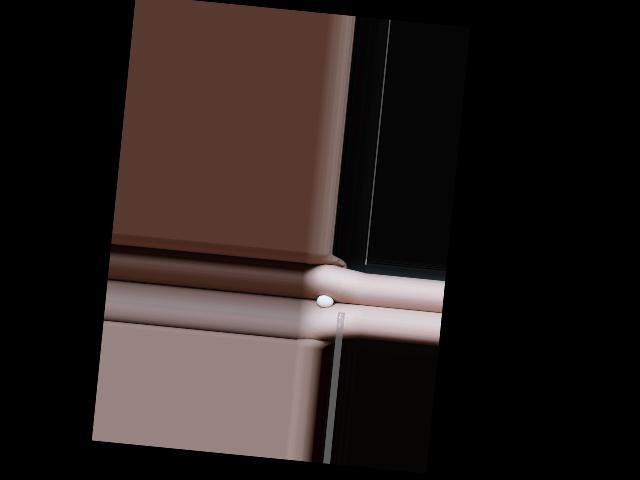egg: (316, 294, 334, 308)
